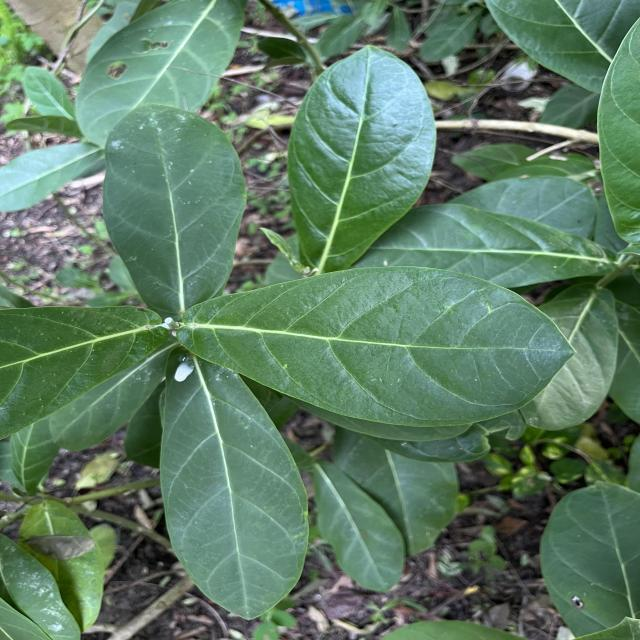Calotropis gigantea: (176, 264, 580, 429), (156, 350, 312, 624), (284, 44, 439, 274), (101, 102, 249, 314), (73, 0, 247, 149), (311, 459, 406, 592)
